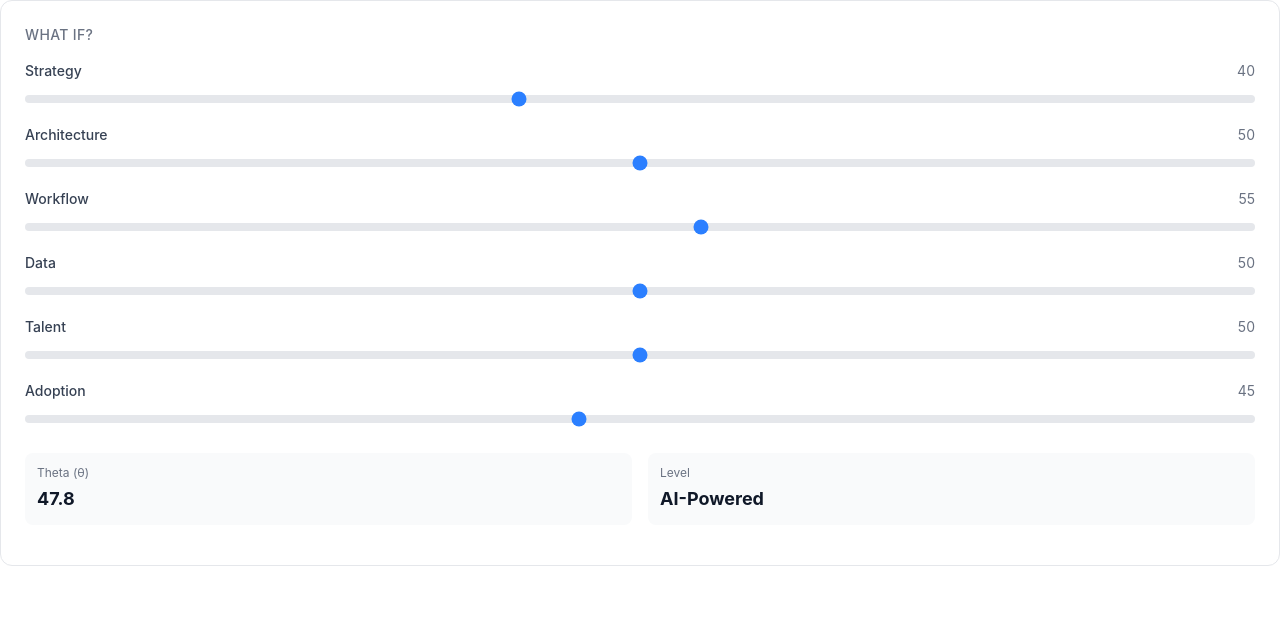
Test: WhatIfPanel › updates maturity level when slider pushes theta above boundary
This screenshot has width=1280, height=621.
Check: the text "AI-Powered" is shown, box x1=660 y1=488 x2=764 y2=509
// Push strategy from 40 to 90 → theta increases by ~12.5 → crosses 50 boundary
Set the slider labelled "Strategy" to "90" at x=1126, y=99, box x1=25 y1=95 x2=1255 y2=103
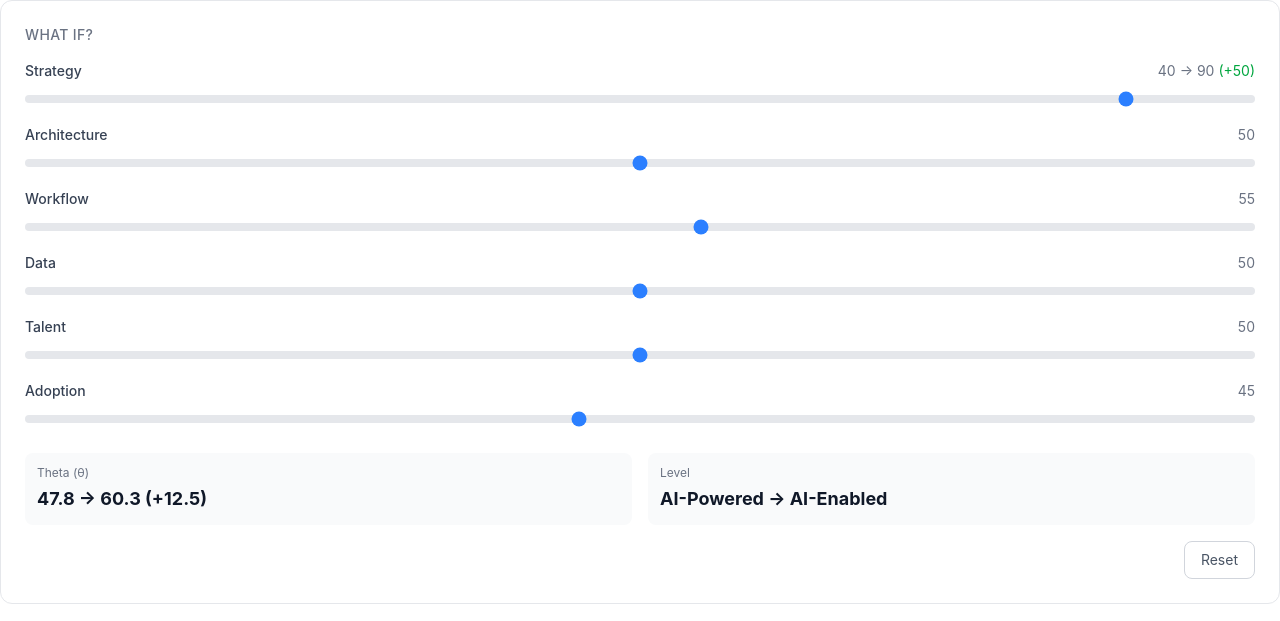
Check: the text "AI-Powered → AI-Enabled" is shown, box x1=660 y1=488 x2=888 y2=509
